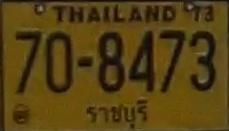0: (44, 30, 72, 92)
3: (188, 30, 214, 90)
4: (128, 30, 154, 90)
7: (158, 29, 184, 91), (15, 30, 40, 93)
8: (97, 31, 123, 91)
RBR: (84, 99, 151, 130)
